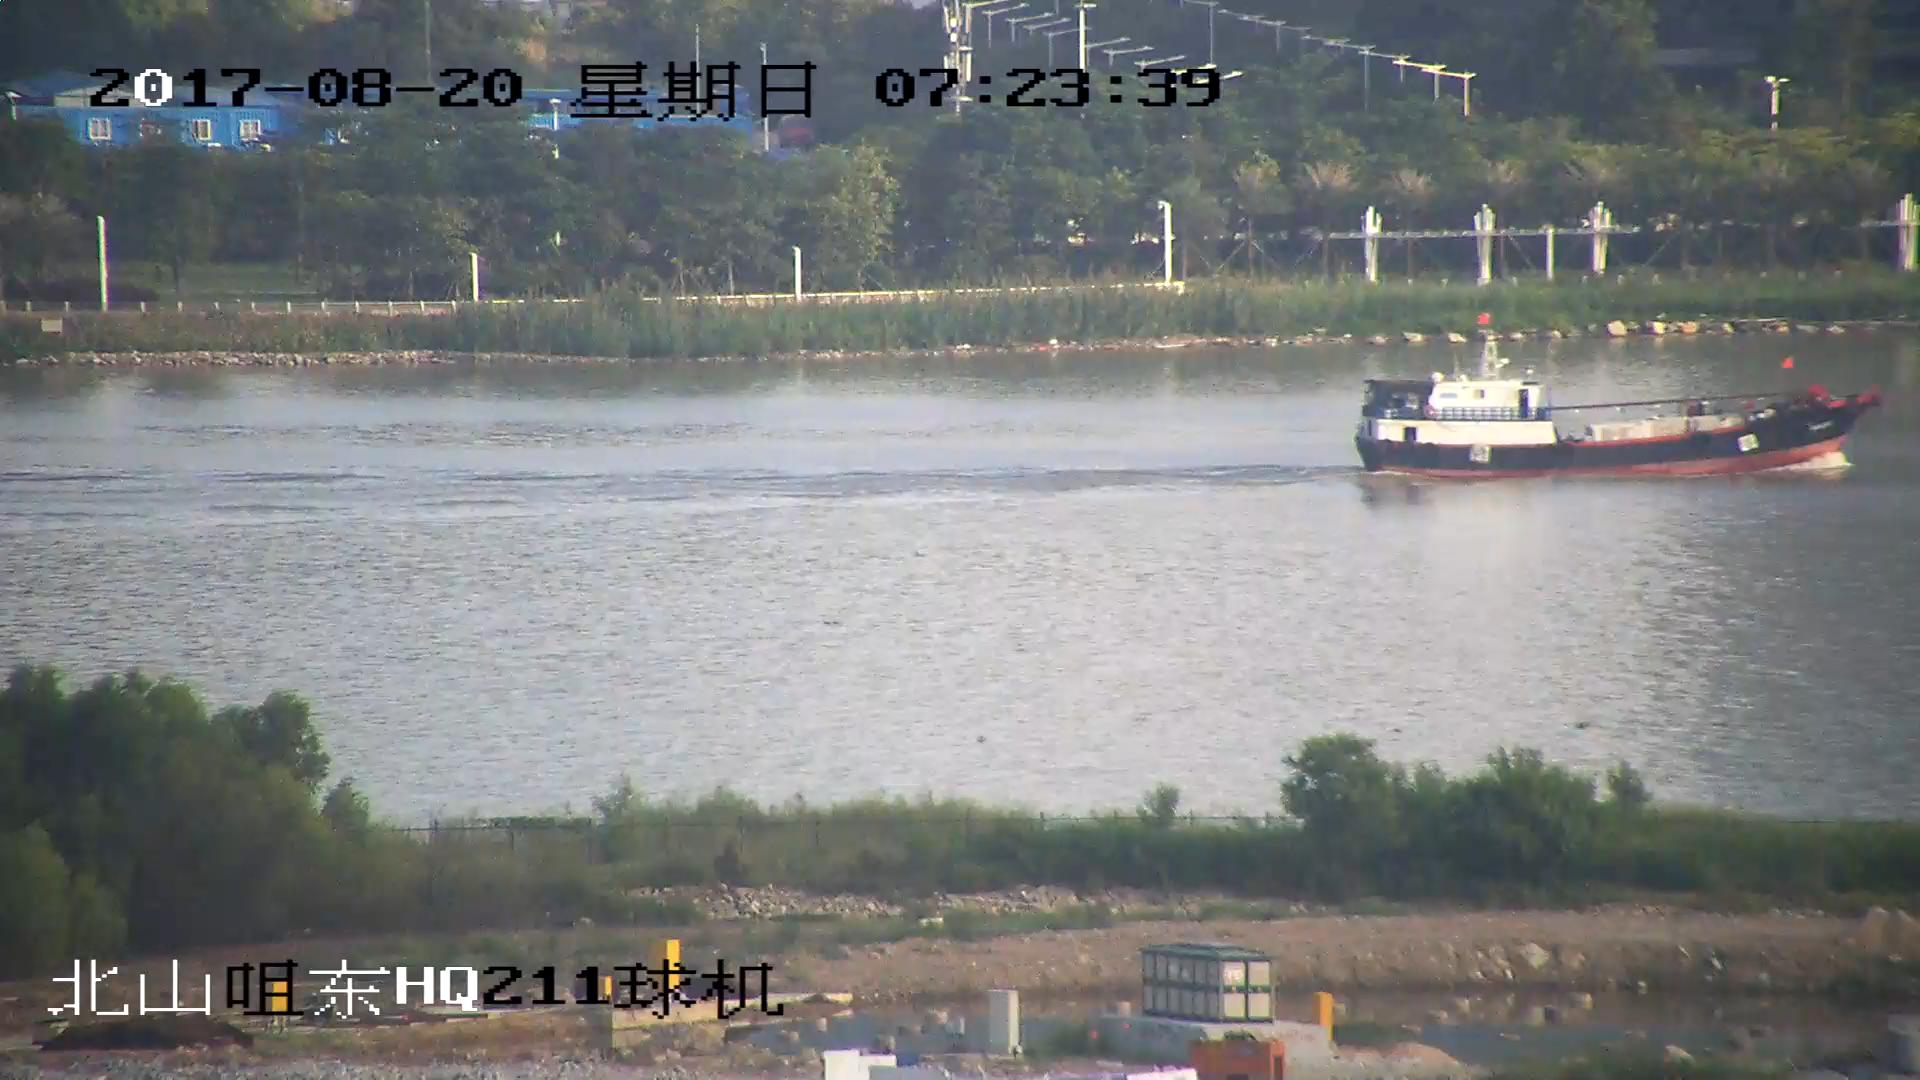fishing boat: (1358, 339, 1884, 483)
